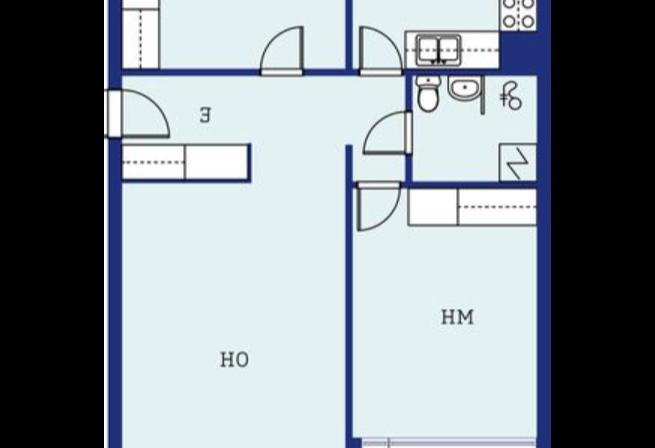bathroom: (410, 74, 536, 180)
door: (110, 87, 172, 141), (256, 21, 309, 79), (356, 20, 405, 80), (354, 176, 403, 232), (360, 108, 417, 156)
perimeter: (108, 0, 550, 448)
window: (353, 432, 544, 448)
